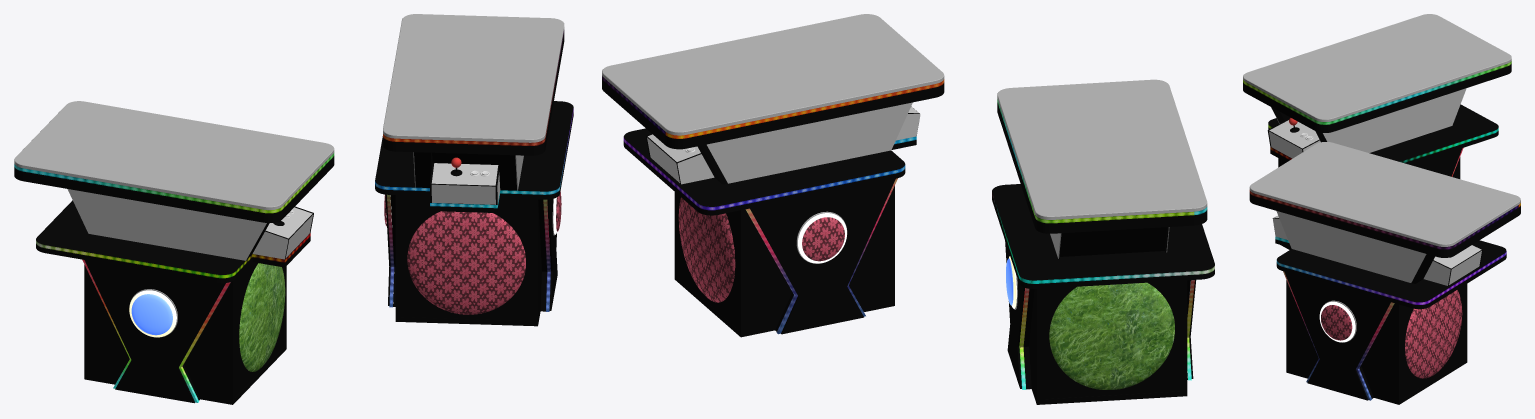
Rendered from maya2sketchfab.fbx.fbx.
The picture shows the model from 3 angles, left to right: view 1: azimuth 30°, elevation 25°; view 2: azimuth 150°, elevation 25°; view 3: azimuth 270°, elevation 25°; orthographic projection. The views are drawn at different scales.
Parts seen in each view (by area): view 1: JustCabinet:CasinoKat_Glass (×2), JustCabinet:BassBox (×2), JustCabinet:pCylinder73 (×3), JustCabinet:CasinoKatLegs6 (×2), JustCabinet:SideGlass1, CasinoKatundershelf, JustCabinet:CasinoKatCab1_CasinoKatundershelf, JustCabinet:CasinoKat10 (×2), JustCabinet:CasinoKatControlsBox2 (×2), JustCabinet:CasinoKatLightStrips (×2), JustCabinet:CasinoKatControlsBox1 (×2), JustCabinet:CasinoKatLegs (+5 smaller); view 2: JustCabinet:CasinoKat_Glass (×2), JustCabinet:BassBox (×2), JustCabinet:pCylinder73 (×3), JustCabinet:CasinoKatLegs6, CasinoKatundershelf, JustCabinet:SideGlass1, JustCabinet:CasinoKatCab1_CasinoKatundershelf, JustCabinet:CasinoKat10 (×2), JustCabinet:CasinoKat13, JustCabinet:CasinoKatLightStrips (×2), JustCabinet:CasinoKatLegs, CasinoKatControlsBox2 (+2 smaller); view 3: JustCabinet:CasinoKat_Glass (×2), JustCabinet:SideGlass (×2), JustCabinet:CasinoKatLegs (×2), JustCabinet:BassBox, JustCabinet:CasinoKatCab1_CasinoKatundershelf, JustCabinet:CasinoKat10 (×2), JustCabinet:pCylinder73 (×2), CasinoKatundershelf, JustCabinet:CasinoKatLightStrips (×2), CasinoKatControlsBox2, JustCabinet:CasinoKatControlsBox1, JustCabinet:CasinoKatLegs1 (+4 smaller).
Part boxes in pixels (x1,y1,x2,y2): JustCabinet:CasinoKat_Glass (×2): [14, 14, 564, 210]; JustCabinet:BassBox (×2): [84, 195, 541, 404]; JustCabinet:pCylinder73 (×3): [131, 211, 525, 371]; JustCabinet:CasinoKatLegs6 (×2): [84, 194, 395, 403]; JustCabinet:SideGlass1: [67, 189, 266, 260]; CasinoKatundershelf: [36, 200, 310, 283]; JustCabinet:CasinoKatCab1_CasinoKatundershelf: [375, 101, 573, 212]; JustCabinet:CasinoKat10 (×2): [14, 33, 564, 222]; JustCabinet:CasinoKatControlsBox2 (×2): [252, 172, 500, 259]; JustCabinet:CasinoKatLightStrips (×2): [14, 30, 564, 213]; JustCabinet:CasinoKatControlsBox1 (×2): [265, 163, 498, 238]; JustCabinet:CasinoKatLegs: [538, 199, 557, 311]; JustCabinet:CasinoKat_Glass (×2): [602, 14, 1207, 219]; JustCabinet:BassBox (×2): [674, 186, 1187, 404]; JustCabinet:pCylinder73 (×3): [678, 197, 1174, 389]; JustCabinet:CasinoKatLegs6: [750, 178, 895, 334]; CasinoKatundershelf: [992, 184, 1214, 288]; JustCabinet:SideGlass1: [707, 102, 912, 183]; JustCabinet:CasinoKatCab1_CasinoKatundershelf: [623, 128, 916, 215]; JustCabinet:CasinoKat10 (×2): [602, 79, 1207, 233]; JustCabinet:CasinoKat13: [1060, 227, 1168, 256]; JustCabinet:CasinoKatLightStrips (×2): [602, 75, 1207, 223]; JustCabinet:CasinoKatLegs: [1005, 241, 1034, 389]; CasinoKatControlsBox2: [647, 137, 714, 184]; JustCabinet:CasinoKat_Glass (×2): [1243, 14, 1520, 246]; JustCabinet:SideGlass (×2): [1276, 88, 1466, 282]; JustCabinet:CasinoKatLegs (×2): [1284, 148, 1462, 400]; JustCabinet:BassBox: [1286, 280, 1467, 404]; JustCabinet:CasinoKatCab1_CasinoKatundershelf: [1275, 236, 1506, 309]; JustCabinet:CasinoKat10 (×2): [1243, 64, 1520, 257]; JustCabinet:pCylinder73 (×2): [1321, 290, 1462, 378]; CasinoKatundershelf: [1268, 104, 1498, 164]; JustCabinet:CasinoKatLightStrips (×2): [1243, 61, 1520, 249]; CasinoKatControlsBox2: [1423, 250, 1481, 285]; JustCabinet:CasinoKatControlsBox1: [1269, 120, 1319, 148]; JustCabinet:CasinoKatLegs1: [1283, 271, 1394, 400].
Size of what is drawn, in the model's own units: 244 by 87.51 by 124.
